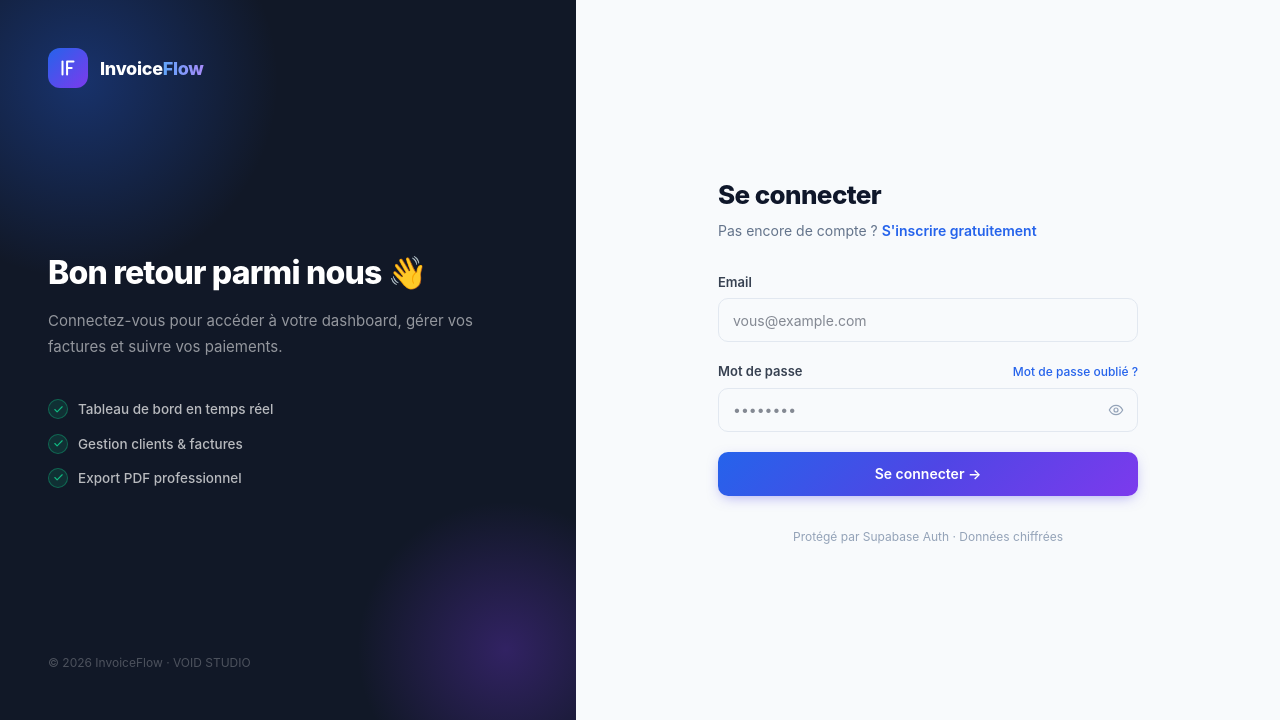
Test: LoginPage › affiche les erreurs de validation (email invalide + mot de passe trop court)
This screenshot has width=1280, height=720.
Type "pas-un-email" into the field with placeholder "vous@example.com" at x=928, y=320, box [718,298,1138,342]
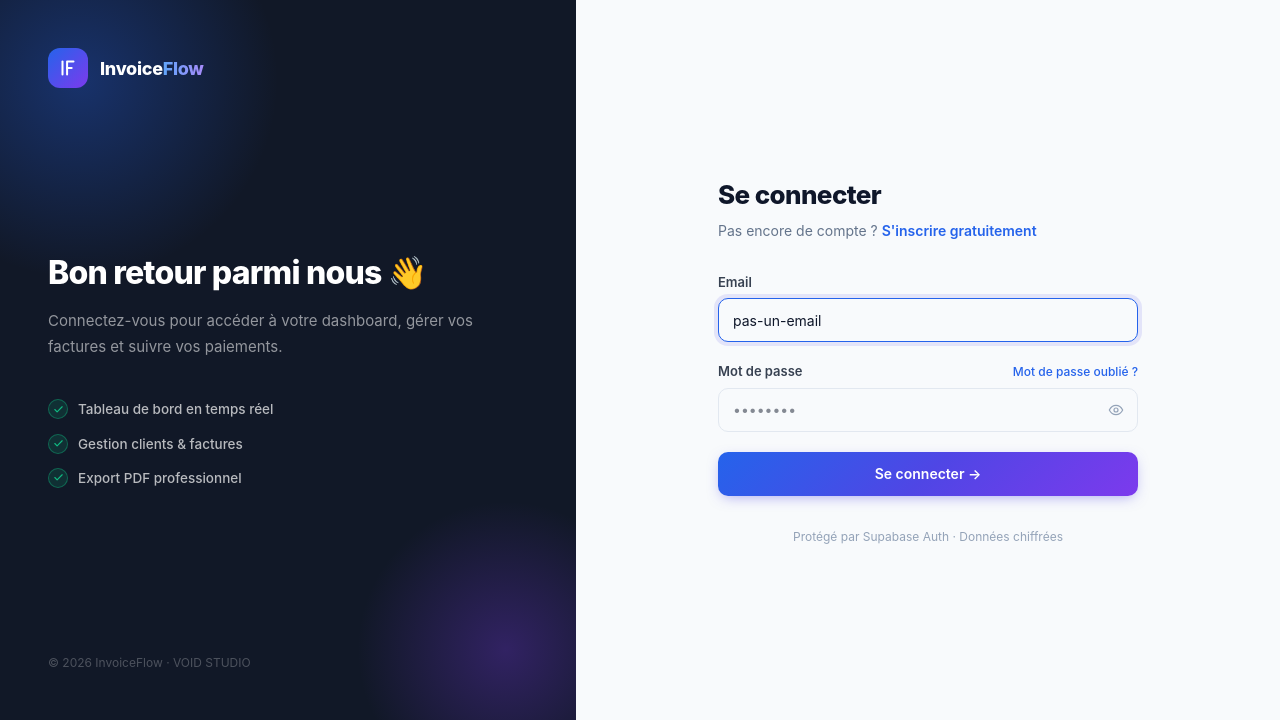
Type "123" into the password field with placeholder "••••••••" at x=928, y=410, box [718,388,1138,432]
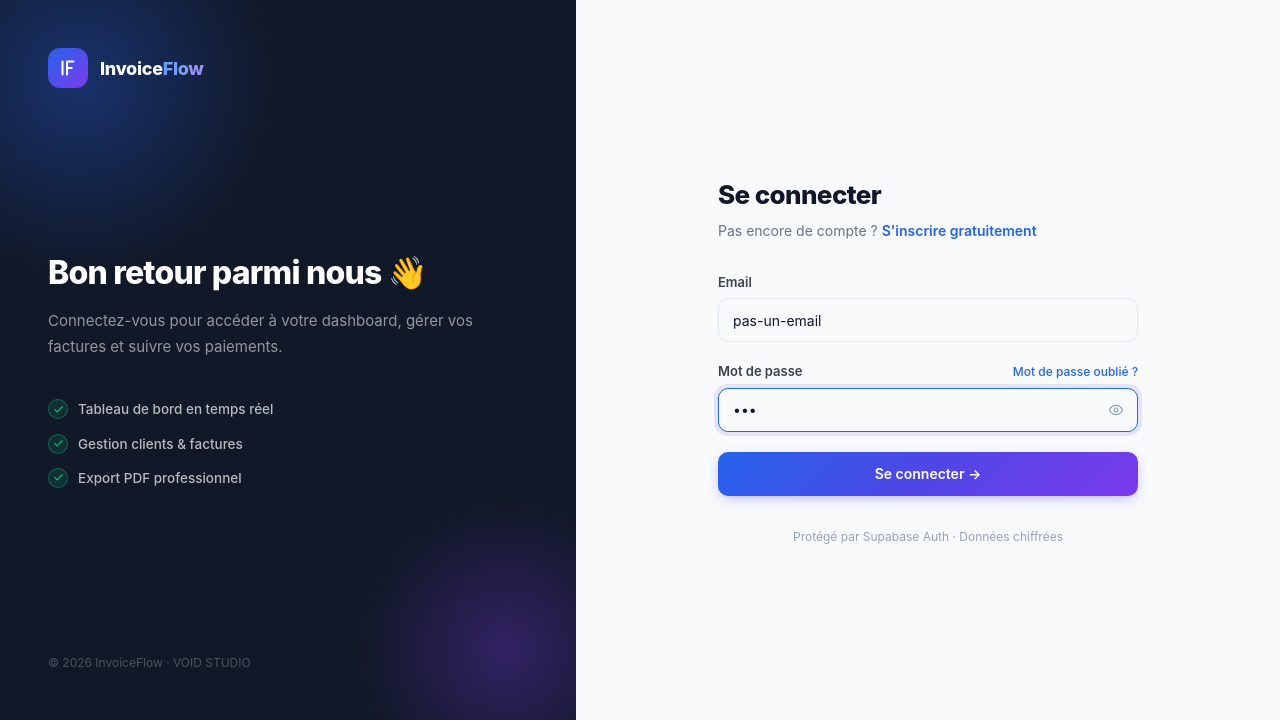
Click the button "Se connecter →" at x=928, y=474, box [718,452,1138,496]
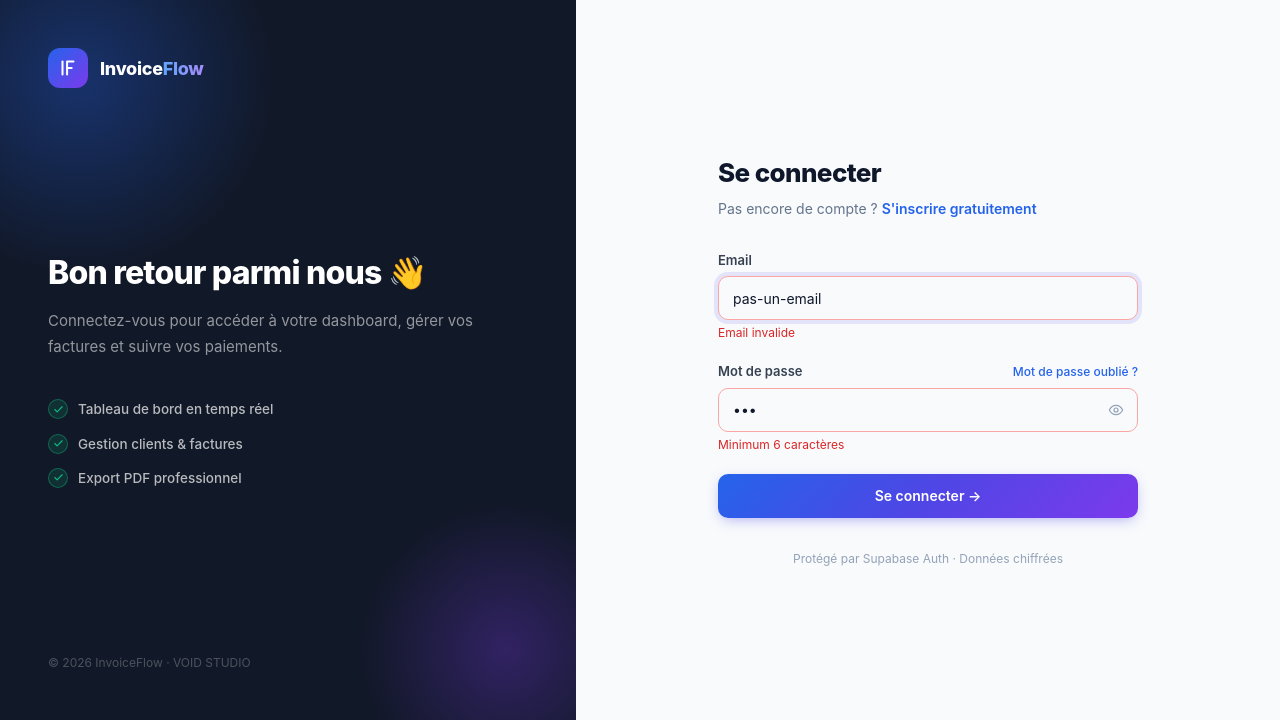
Expected: the text "Email invalide" is shown, [718,325,795,340]
Expected: the text "Minimum 6 caractères" is shown, [718,436,844,452]
